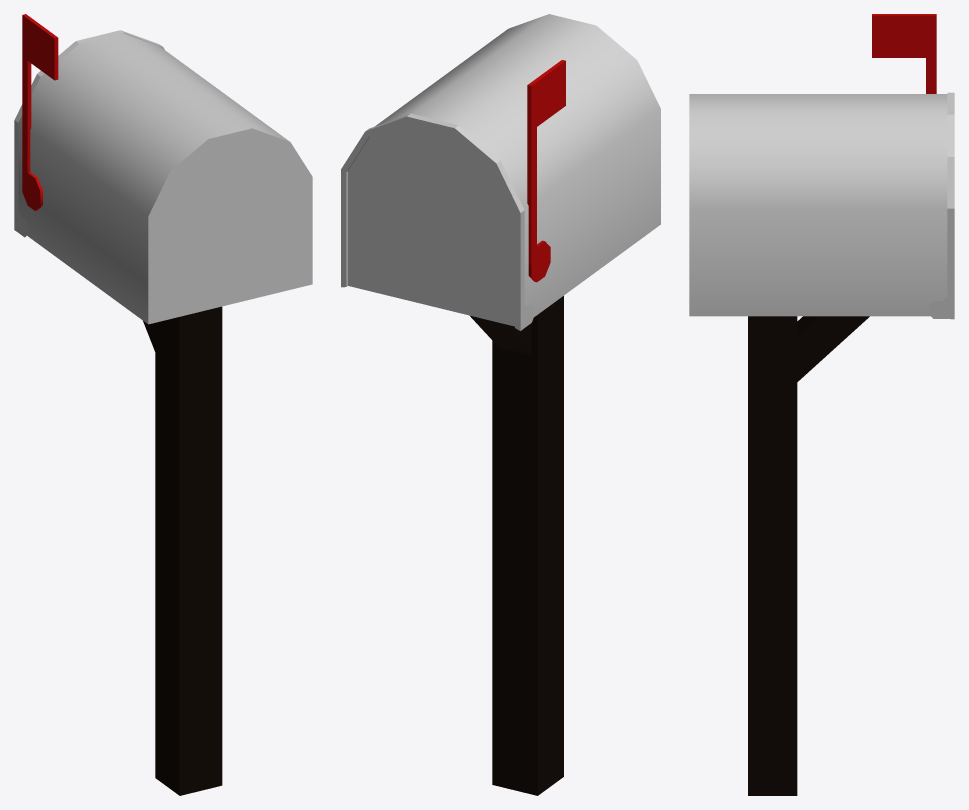
Rendered from Prop_Mailbox_01.fbx.
The picture shows the model from 3 angles, left to right: view 1: azimuth 30°, elevation 25°; view 2: azimuth 150°, elevation 25°; view 3: azimuth 270°, elevation 25°; orthographic projection. The views are drawn at different scales.
Visible parts, largest first — view 1: Prop_Mailbox_01; view 2: Prop_Mailbox_01; view 3: Prop_Mailbox_01.
Part boxes in pixels (bbox=[...]): Prop_Mailbox_01: bbox=[14, 14, 312, 795]; Prop_Mailbox_01: bbox=[341, 14, 660, 795]; Prop_Mailbox_01: bbox=[689, 14, 954, 795].
Bounding box in the file's own units: 15.6 × 64.43 × 21.23.
